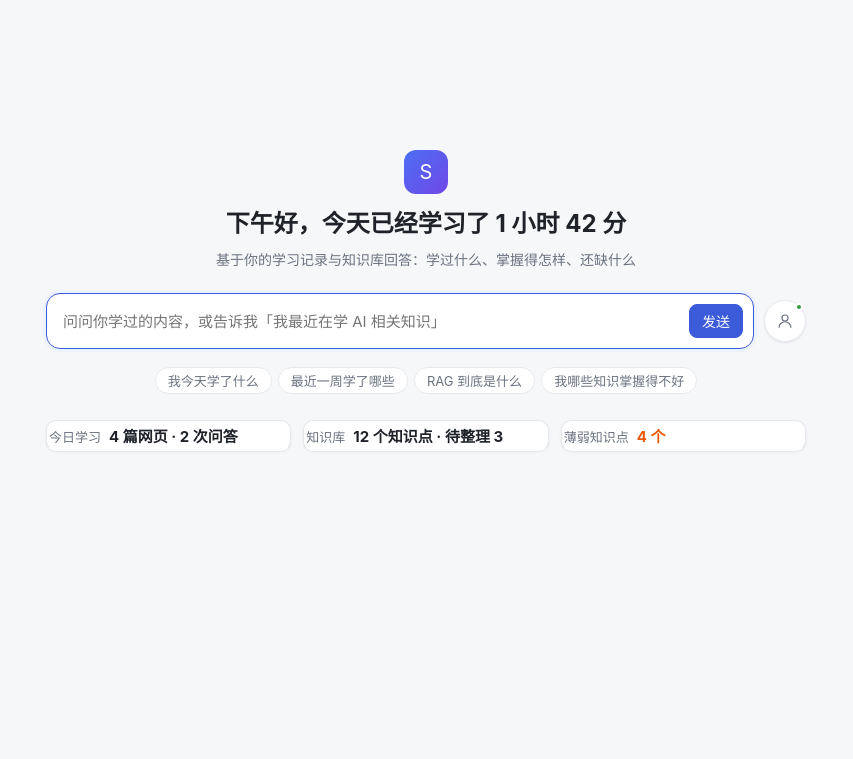
Scenario: 首页对话与悬浮对话 › 档案卡片：记录学习方向，撤销后恢复旧值
Expected: the heading "下午好，今天已经学习了 1 小时 42 分" is shown, left=226, top=204, right=626, bottom=239
Step 1. Type "我最近在学 AI 相关知识" into the text box named "对话输入" → x=372, y=322, box left=63, top=306, right=681, bottom=338
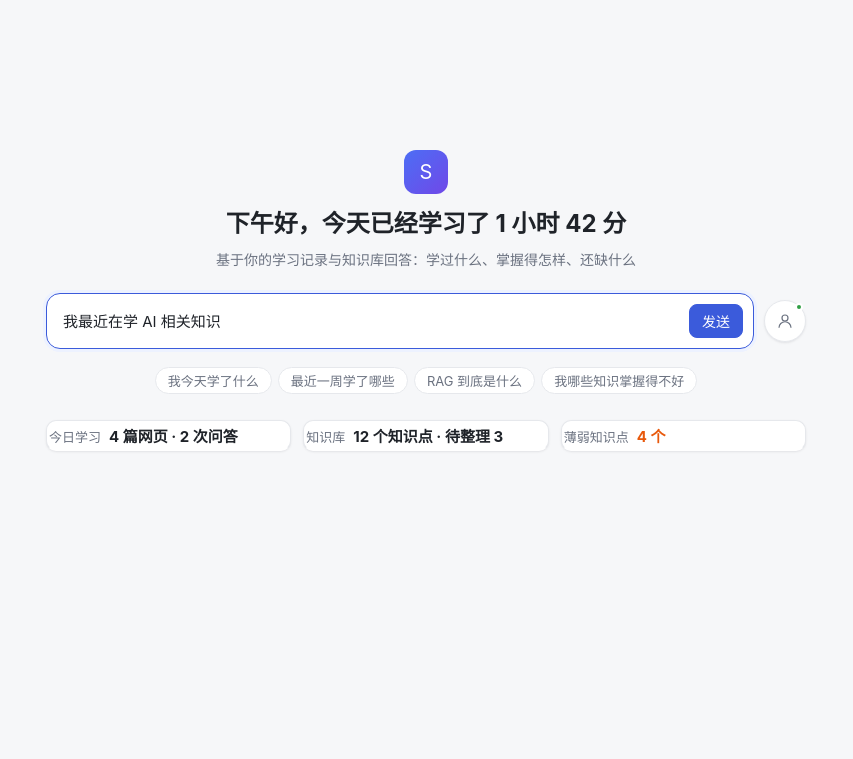
Step 2. Press Enter in the text box named "对话输入", box left=63, top=306, right=681, bottom=338
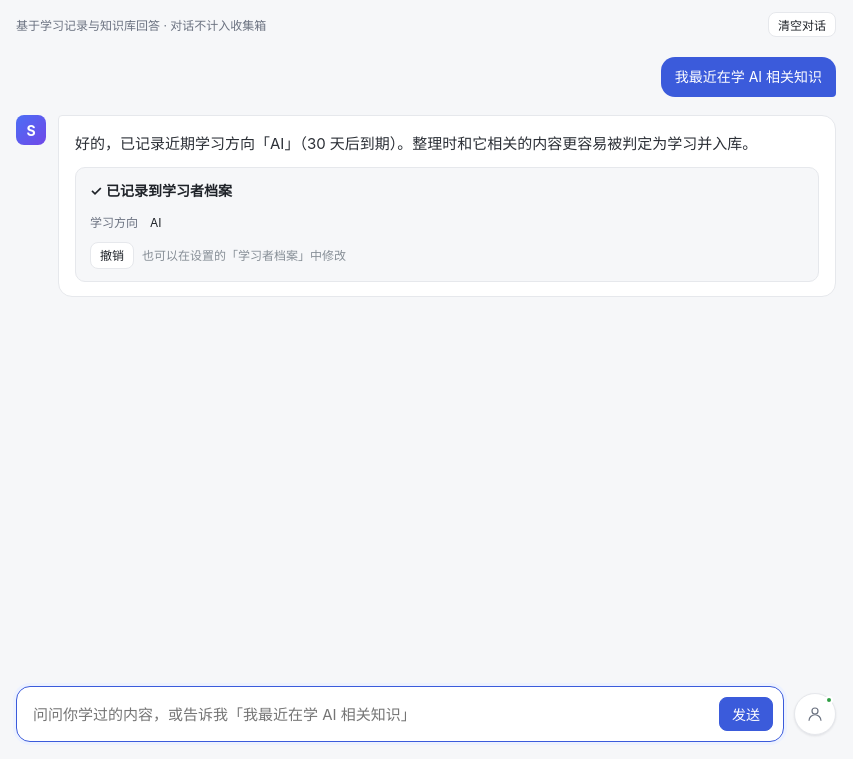
Expected: the text "AI" is shown, left=150, top=215, right=162, bottom=230
Step 3. Click the button "撤销" → x=112, y=256, box left=90, top=242, right=134, bottom=269
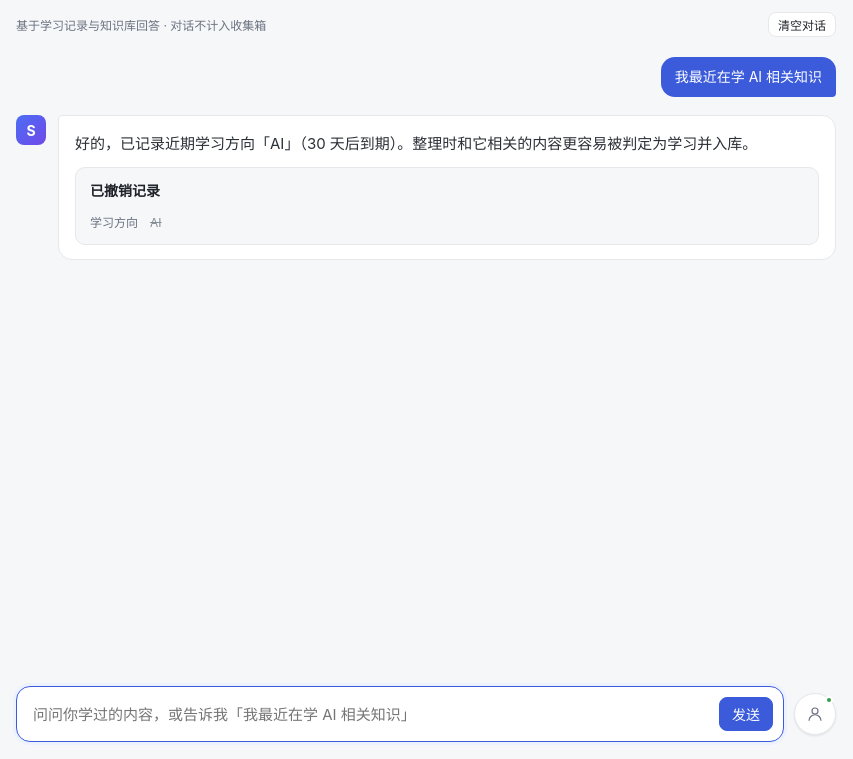
Expected: the text "已撤销记录" is shown, left=90, top=182, right=160, bottom=199
